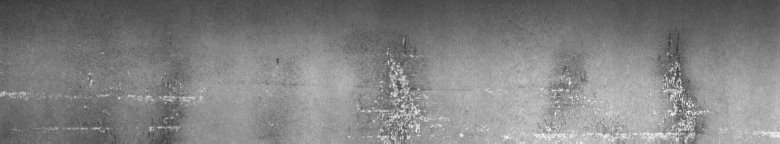hc: (357, 38, 463, 136)
